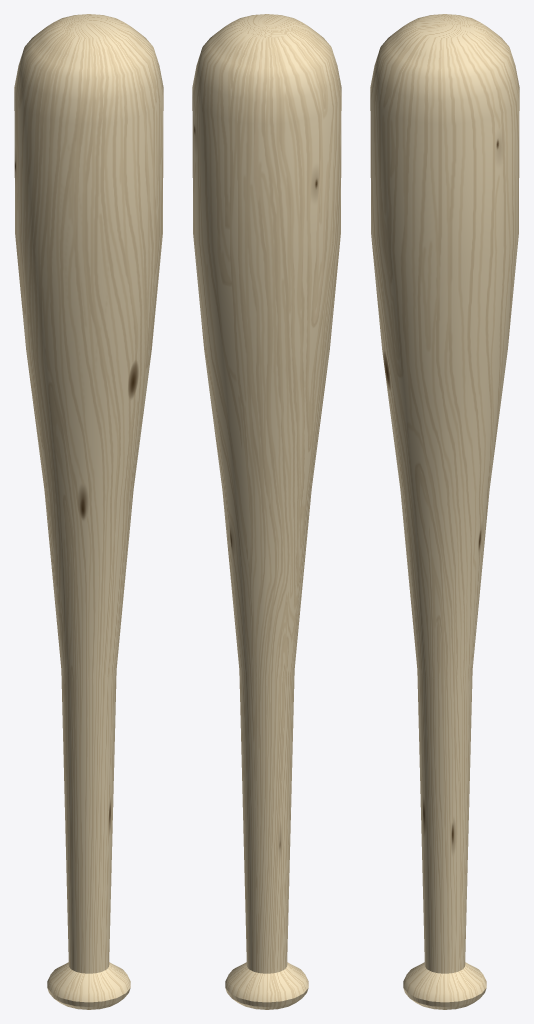
The model's file is baseball bat.FBX.
3 renders of one model, left to right at view 1: azimuth 30°, elevation 25°; view 2: azimuth 150°, elevation 25°; view 3: azimuth 270°, elevation 25°, orthographic.
Visible parts, largest first — view 1: baseball bat; view 2: baseball bat; view 3: baseball bat.
Boxes of the visible parts, x1,y1,x2,y2 form: baseball bat: (14,14,163,1009); baseball bat: (192,14,341,1009); baseball bat: (370,14,519,1009).
Size of the model in its own units: 15.65 by 111 by 15.41.
1 material, 1 textured.
